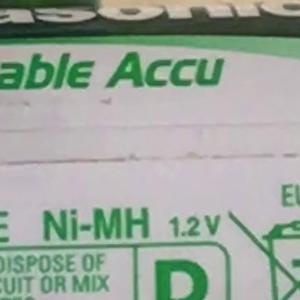NI-MH: (21, 200, 152, 258)
